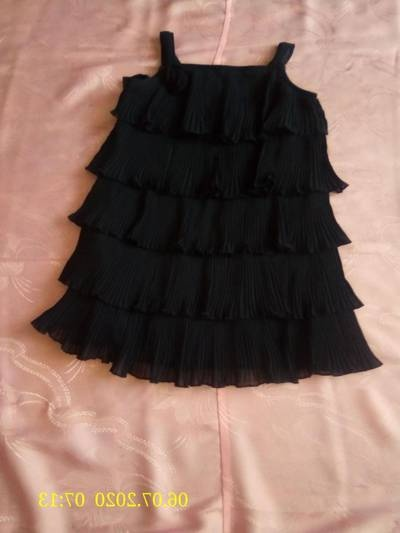Dress: (32, 34, 367, 401)
